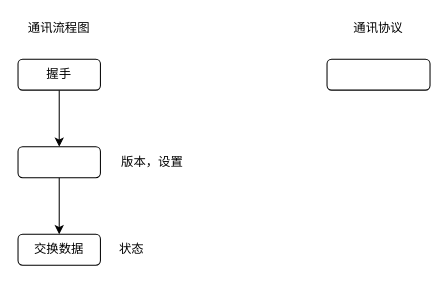
This 448x283 diagram has some shape labels left out. The shapes that lost their labels are listed below. From the top down, each one's centre as x and y in pixels, then its label:
the point at 378,74: 数据名:数据值
the point at 58,162: 获取信息
